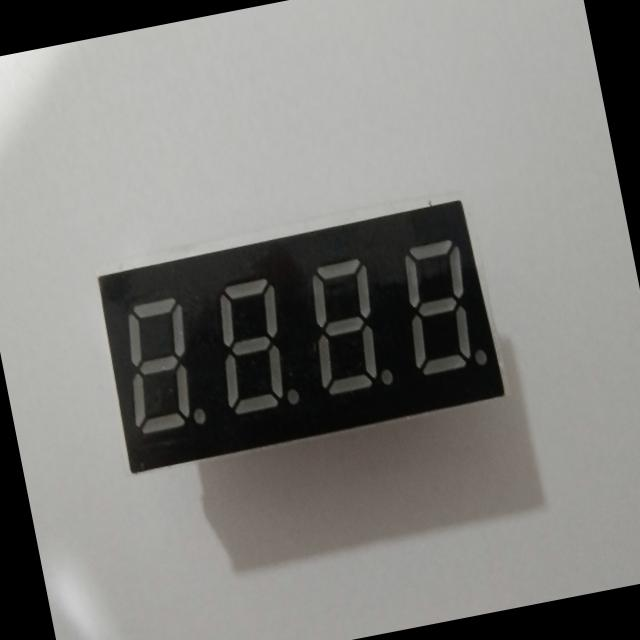7_segments_4_digits: (87, 190, 518, 480)
